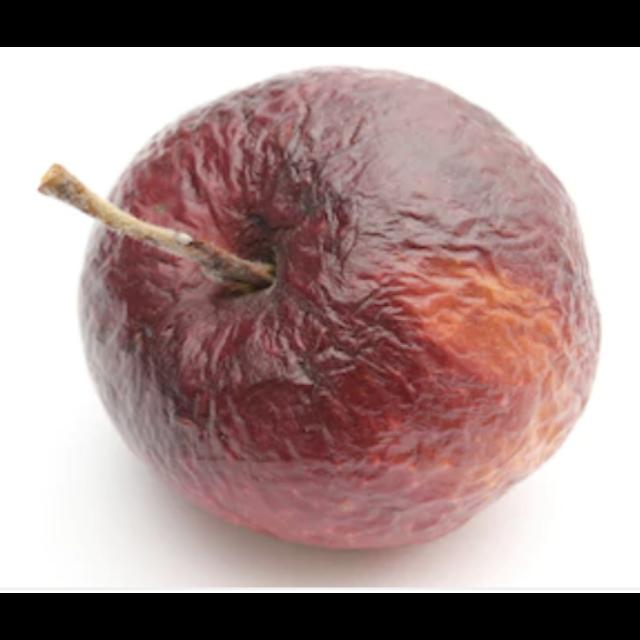Apel Tidak Segar: (75, 62, 605, 554)
